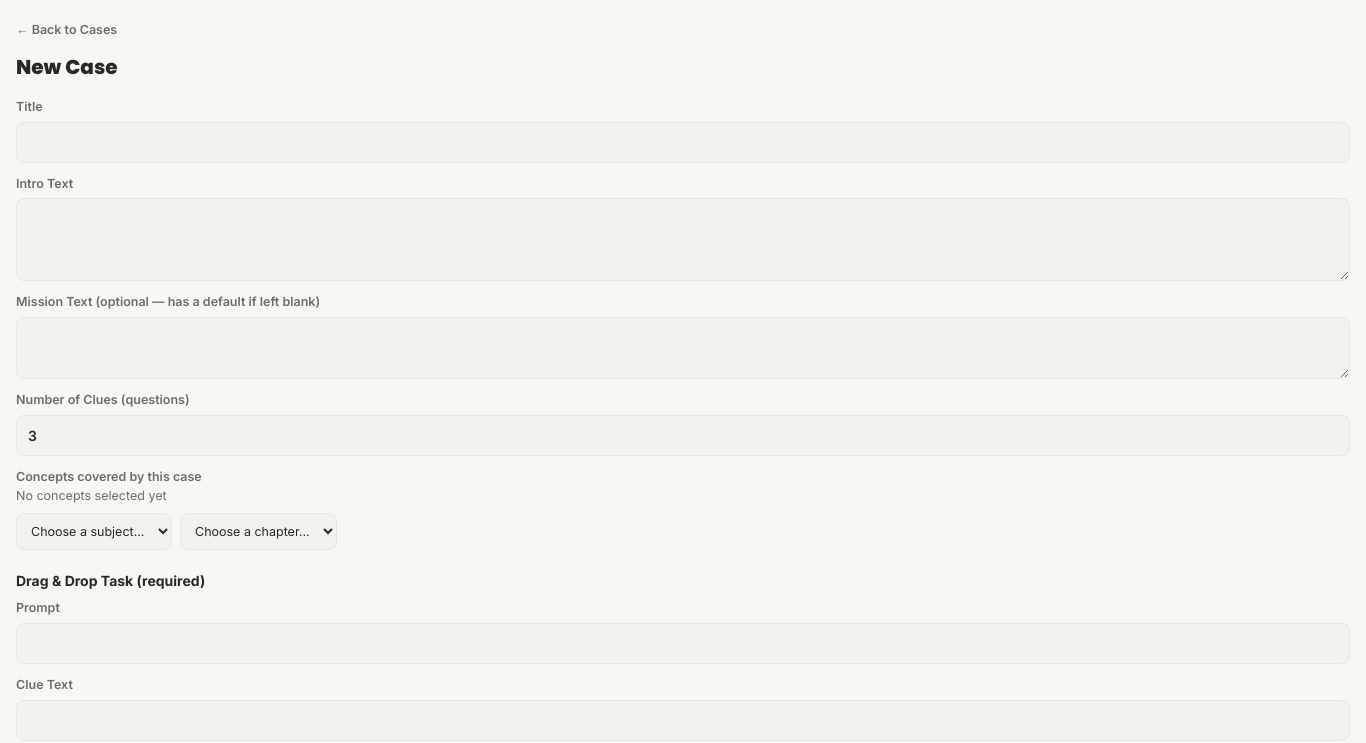
Test: AdminCaseEditor › concepts: adding a concept shows it as a removable badge and disables its add button; removing takes it out
Select "Biology (Grade 10)" in the 1st dropdown "Choose a subject..." at (94, 532), box [16,513,172,550]
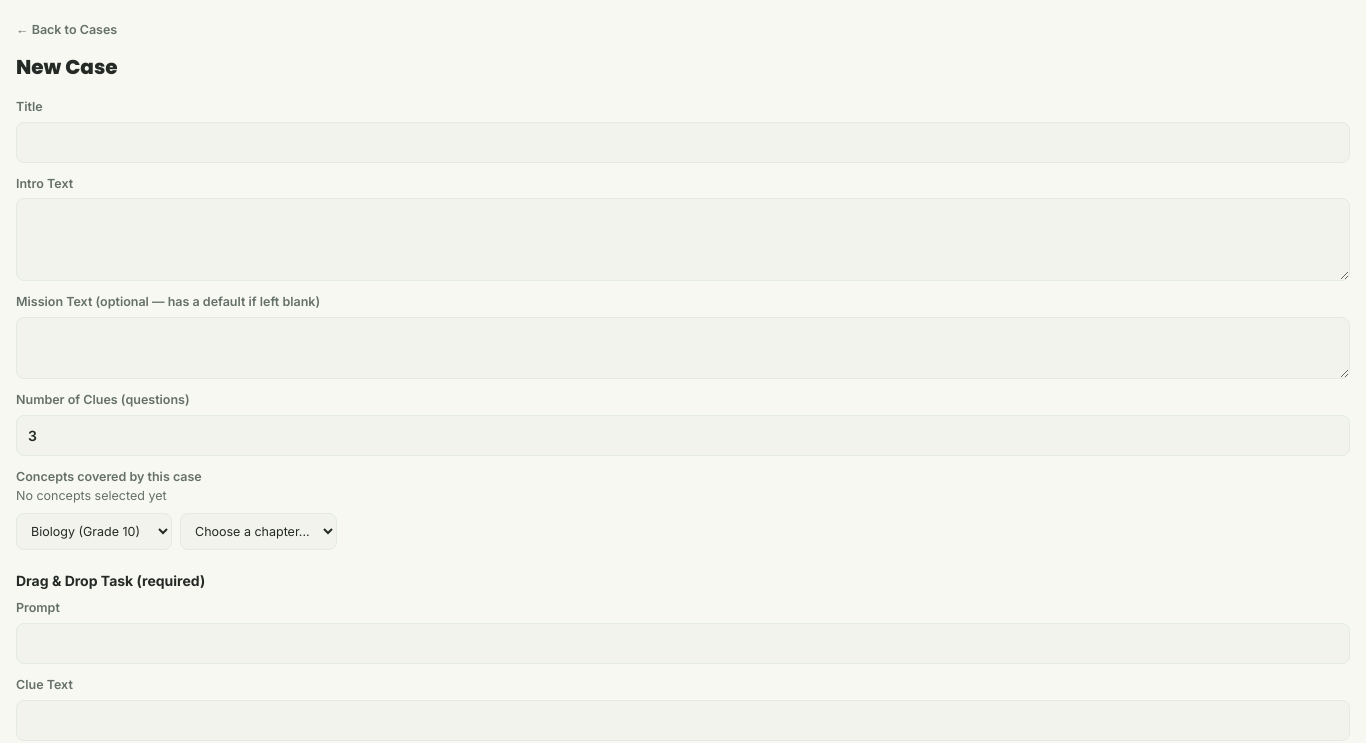
Select "The Human Eye" in the 2nd dropdown "Choose a chapter..." at (258, 532), box [180,513,337,550]
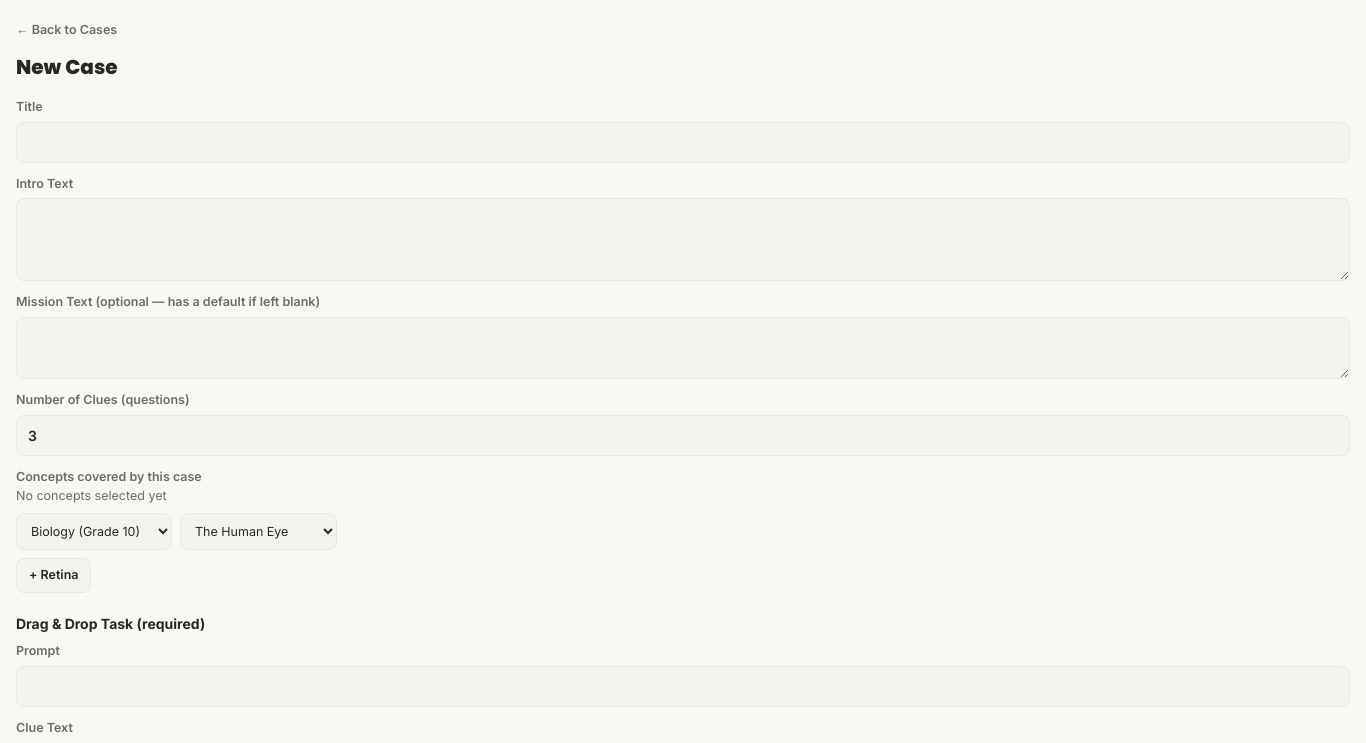
Check: the text "No concepts selected yet" is shown, box [16,486,166,505]
Check: the button "+ Retina" is shown
Click the button "+ Retina".
click(54, 576)  # box [16,558,92,593]
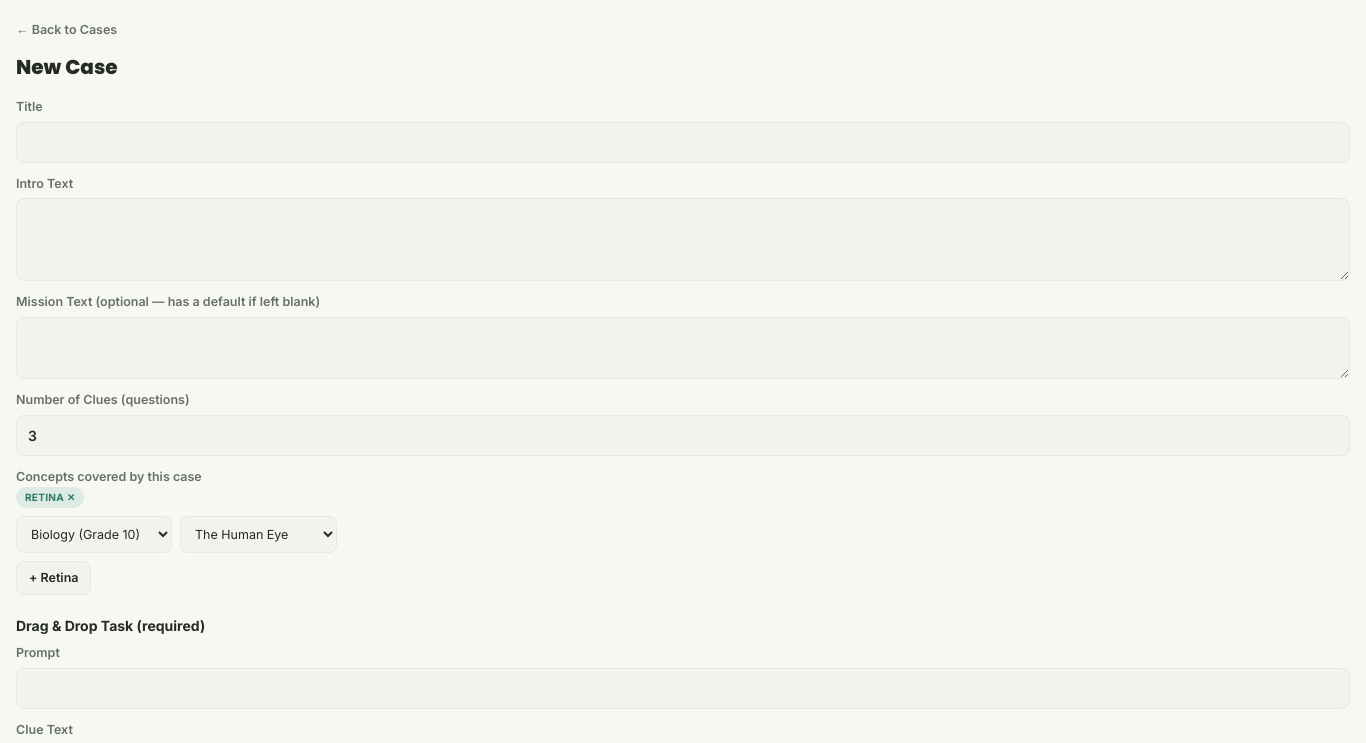
Check: the text "No concepts selected yet" is gone
Check: the button "+ Retina" is disabled, box [16,560,92,595]
Click the button "✕".
click(71, 497)  # box [67,490,75,504]
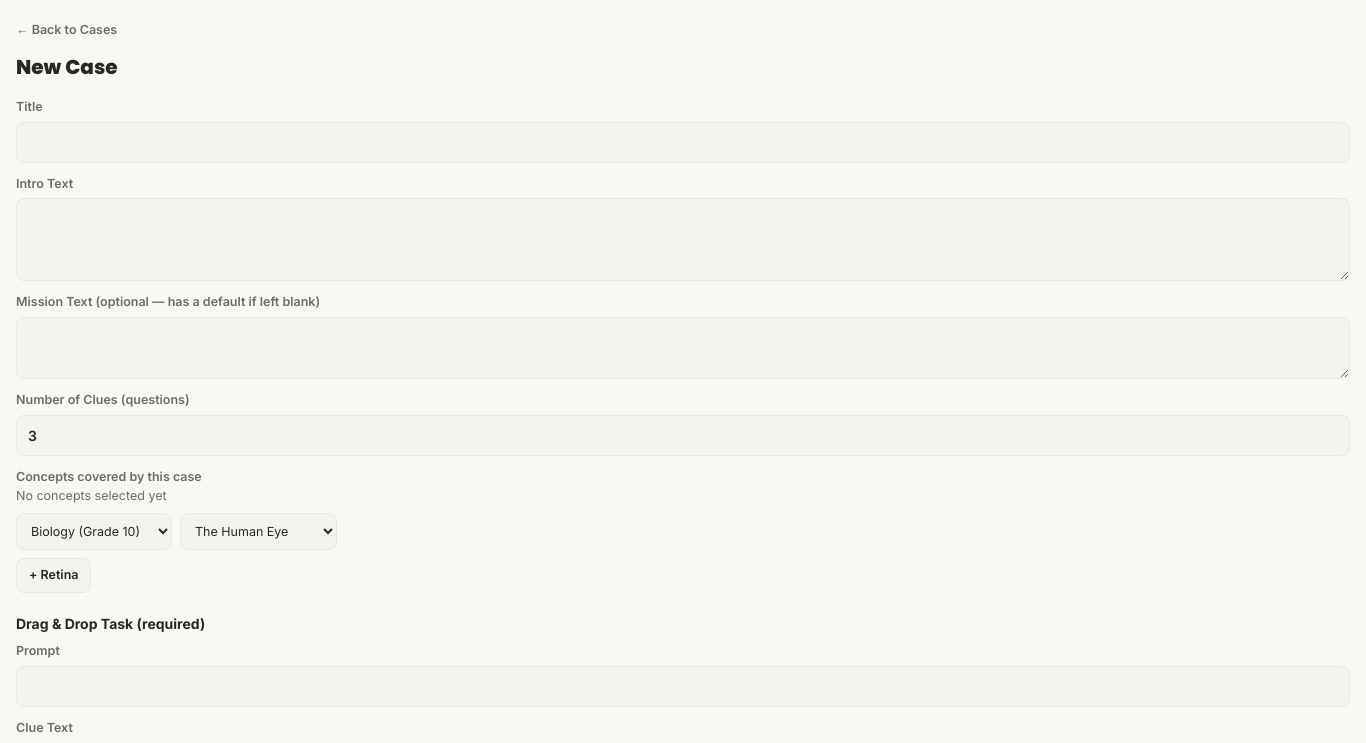
Check: the text "No concepts selected yet" is shown, box [16,486,166,505]
